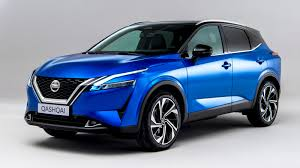Nissan: (28, 25, 272, 133)
